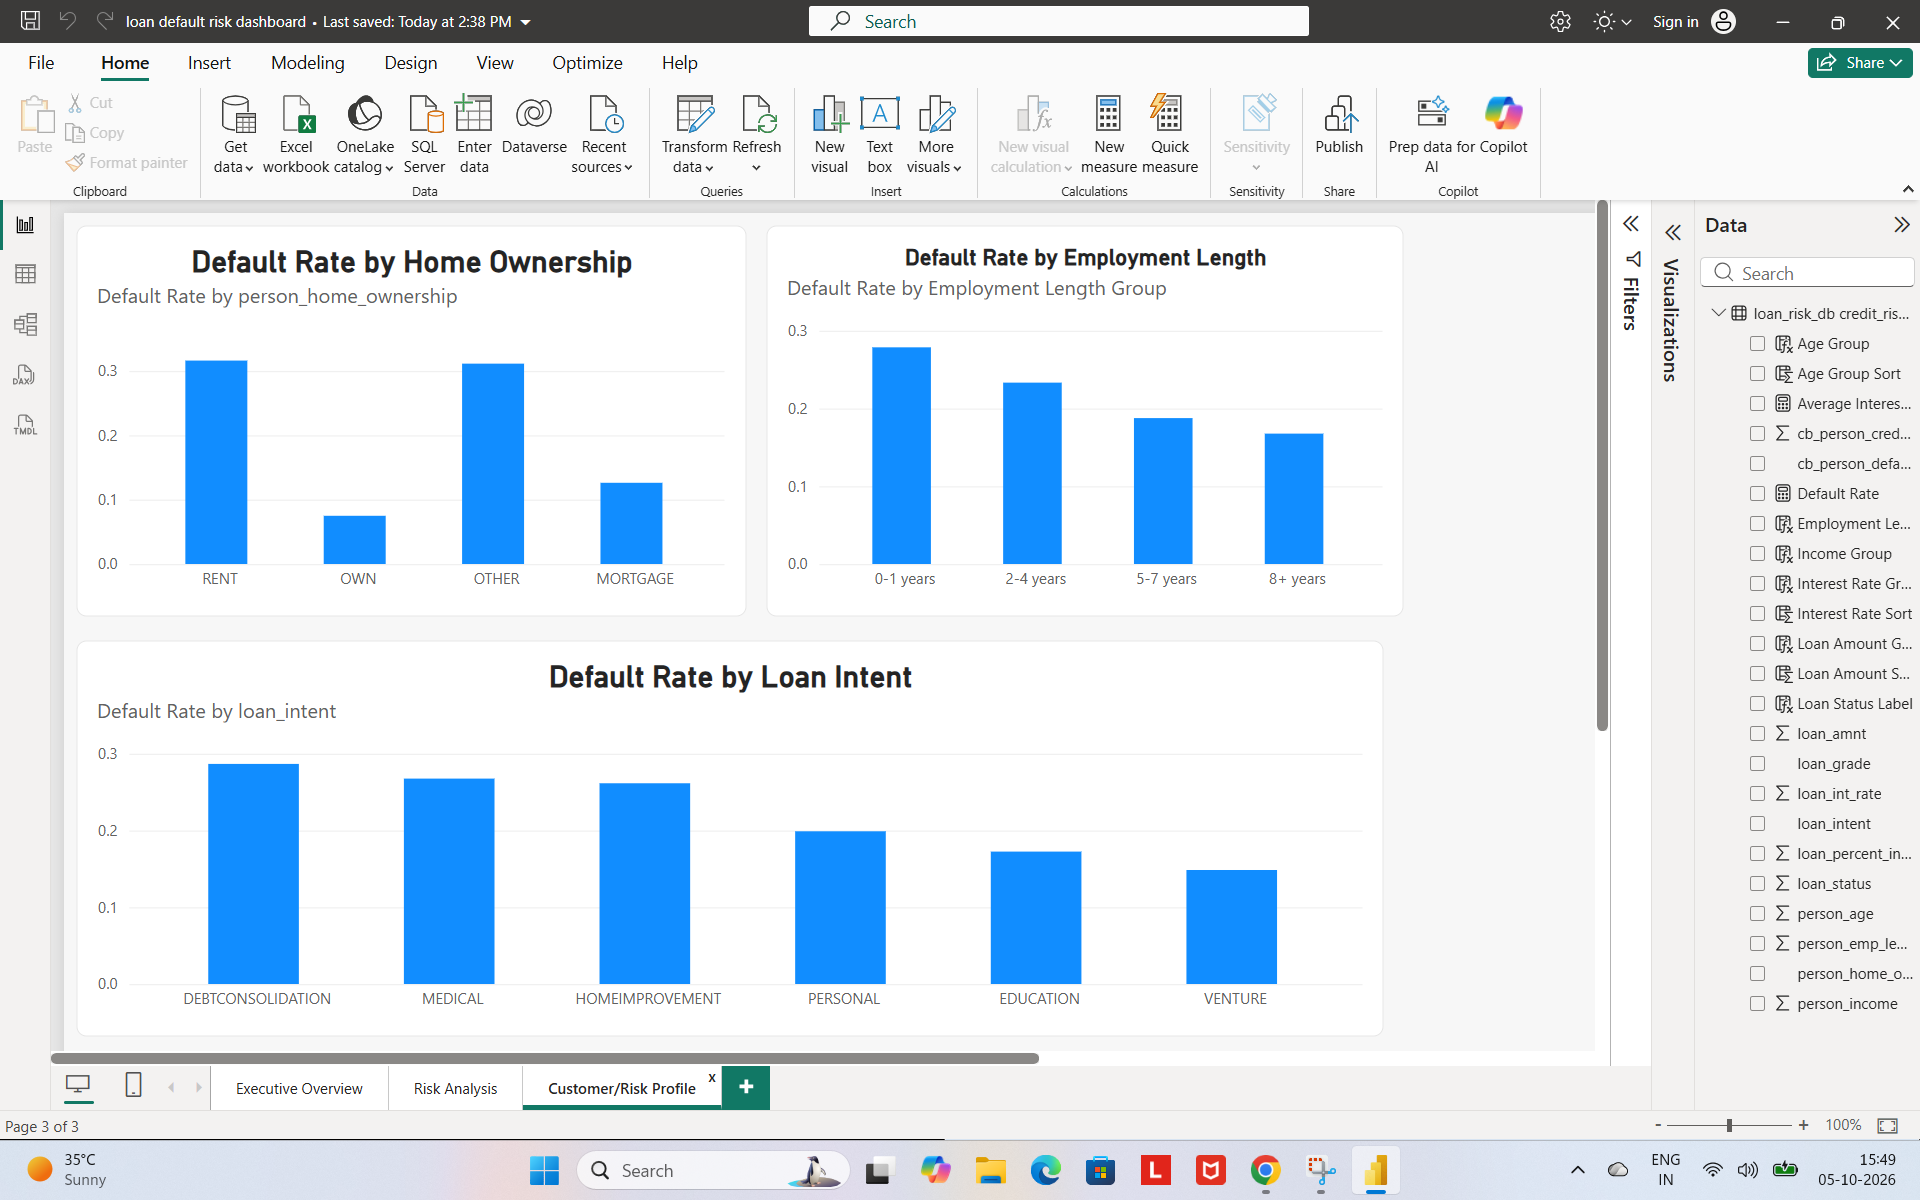

This screenshot's page, from the dashboard's own definition file:
{"tool":"powerbi","page":{"name":"Customer/Risk Profile","canvas":[1920,1080],"ordinal":2},"visuals":[{"type":"clusteredColumnChart","title":"Default Rate by Home Ownership","fields":{"Category":["loan_risk_db credit_risk_clean.person_home_ownership"],"Y":["loan_risk_db credit_risk_clean.Default Rate"]},"box":[10,10,536,313],"z":0},{"type":"clusteredColumnChart","title":"Default Rate by Employment Length","fields":{"Category":["loan_risk_db credit_risk_clean.Employment Length Group"],"Y":["loan_risk_db credit_risk_clean.Default Rate"]},"box":[562,10,510,313],"z":1},{"type":"clusteredColumnChart","title":"Default Rate by Loan Intent","fields":{"Category":["loan_risk_db credit_risk_clean.loan_intent"],"Y":["loan_risk_db credit_risk_clean.Default Rate"]},"box":[10,342,1046,317],"z":2}]}

Visuals, with their boxes on the page's 1920x1080 design canvas (x1, y1, x2, y2). These are canvas units, not pixel positions in the 1920x1200 screenshot, which may show the page scaled, cropped or inside an application window:
"Default Rate by Home Ownership" clusteredColumnChart: 10:10:546:323
"Default Rate by Employment Length" clusteredColumnChart: 562:10:1072:323
"Default Rate by Loan Intent" clusteredColumnChart: 10:342:1056:659
